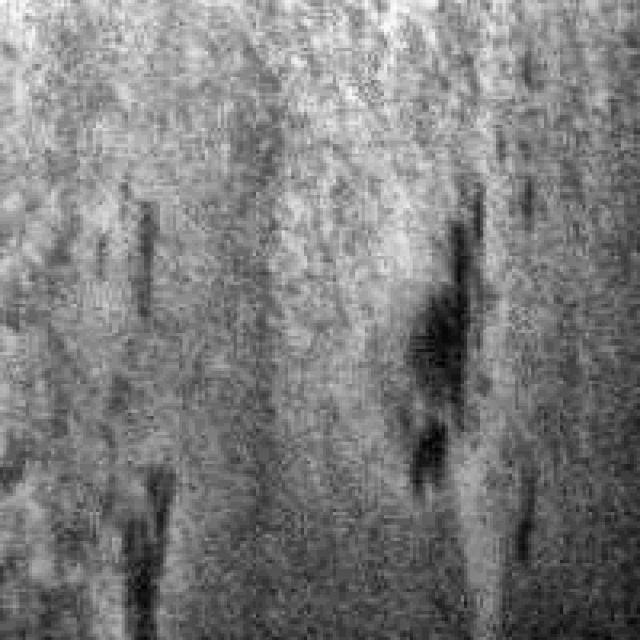Patches: (378, 179, 496, 509), (99, 458, 189, 634), (93, 182, 173, 346)
